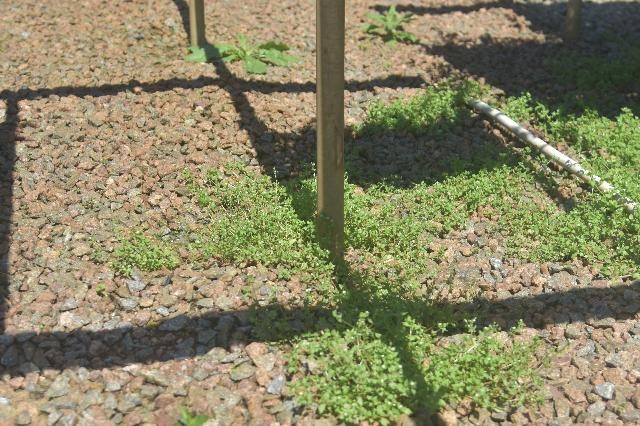MalezaMontesDelPlata: (280, 287, 420, 426), (182, 165, 318, 270), (415, 322, 569, 413), (341, 148, 435, 275), (497, 194, 633, 278), (440, 137, 540, 226), (91, 214, 182, 284), (182, 28, 305, 75), (508, 92, 586, 157), (586, 106, 640, 198), (544, 53, 640, 101), (349, 96, 444, 143), (417, 71, 496, 117), (360, 4, 421, 46)
